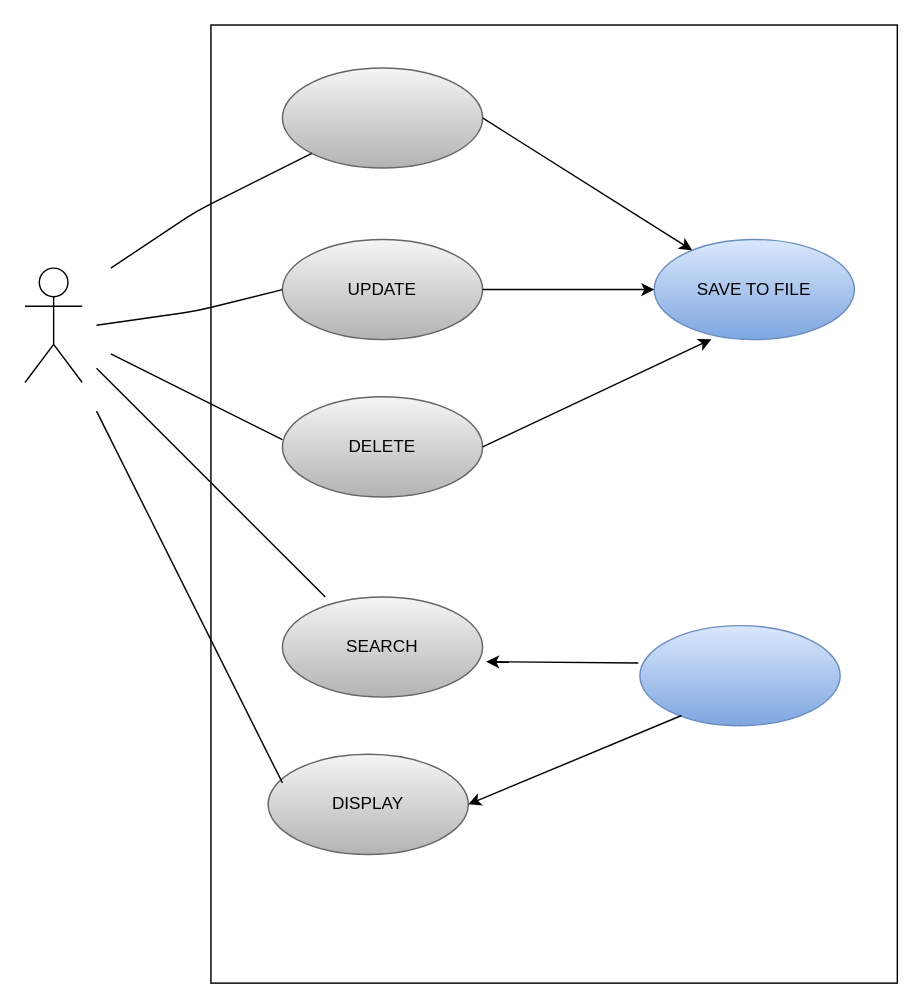
The diagram is 922 pixels wide and 1008 high, and some of its shapes have lost their labels. Here are the shapes that lost their labels. From the top down, the box of each, then its label:
(281, 66, 483, 168): ADD
(24, 267, 82, 383): ADMIN
(638, 624, 840, 726): READ FROM FILE
